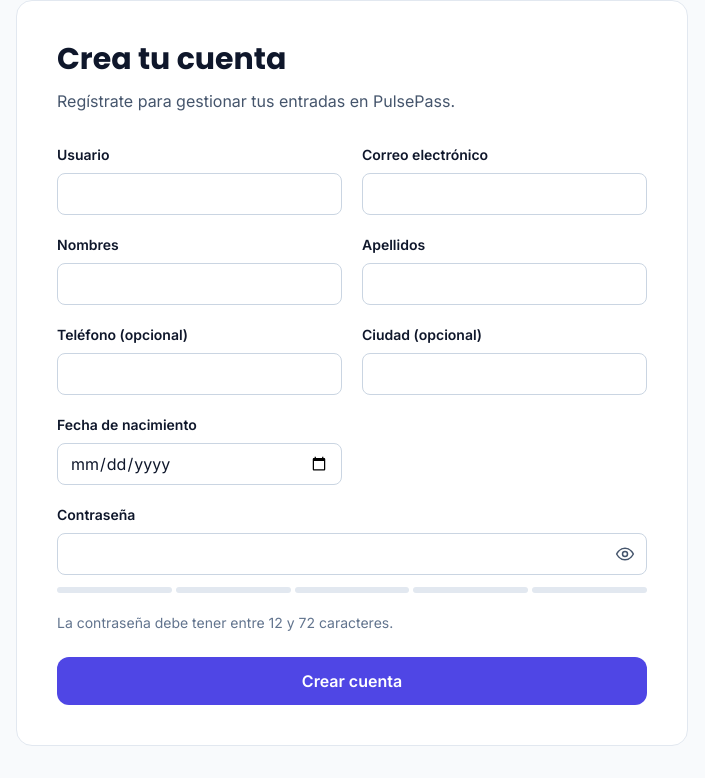
Test: registro inválido no envía datos
This screenshot has width=705, height=778.
Type "corta" into the password field labelled "Contraseña" at [352, 554], box [57,533,647,575]
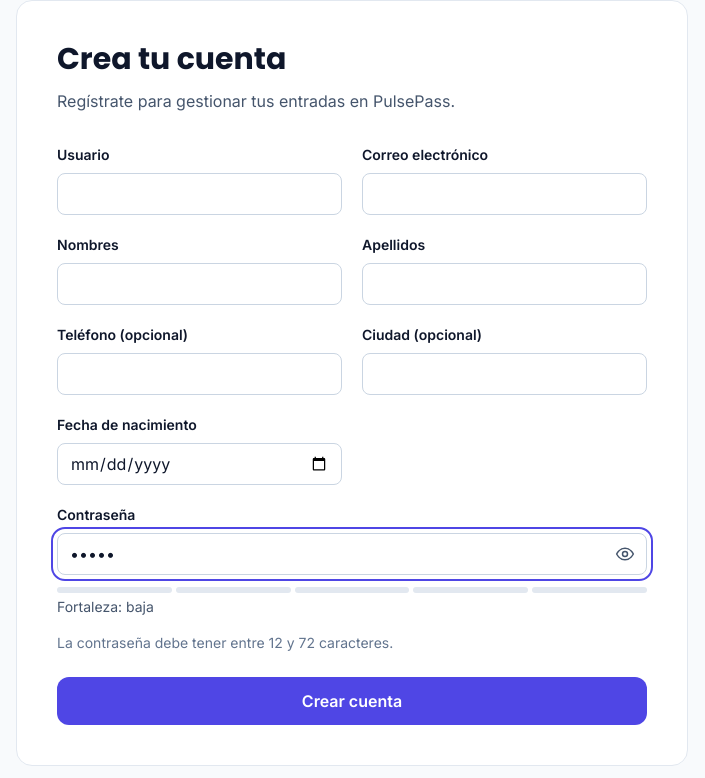
Click the button "Crear cuenta" at [352, 701], box [57,677,647,725]
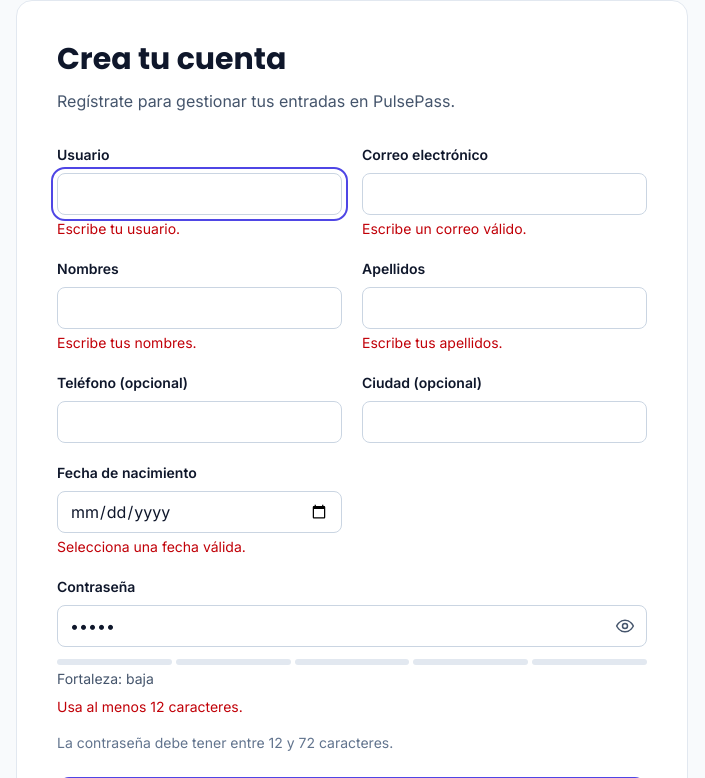
Expected: the text "Usa al menos 12 caracteres." is shown, [57,698,243,715]
